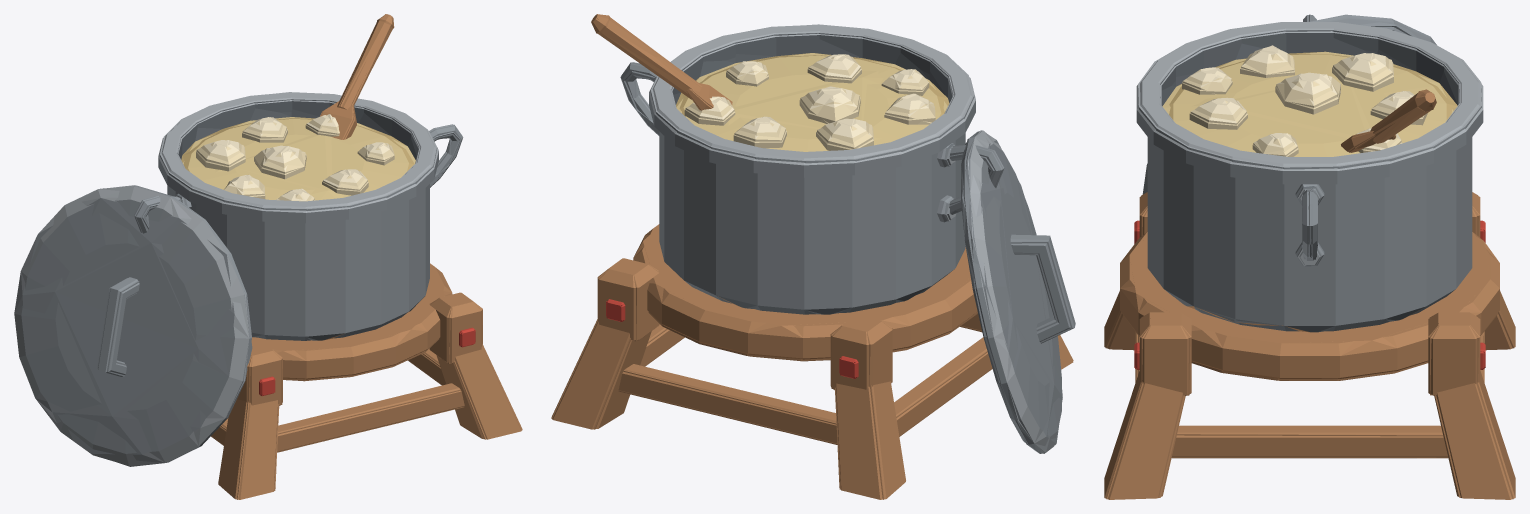
Rendered from FMS_Workshop_STA_01.fbx.
3 renders of one model, left to right at view 1: azimuth 30°, elevation 25°; view 2: azimuth 150°, elevation 25°; view 3: azimuth 270°, elevation 25°, orthographic. The views are drawn at different scales.
Visible parts, largest first — view 1: FMS_Workshop_STA_01_Body, FMS_Workshop_STA_01_Lid, FMS_Workshop_STA_01_Body_Low1, FMS_Workshop_STA_01_Lid_Low1, FMS_Workshop_STA_01_Paddle, FMS_Workshop_STA_01_Paddle_Low1; view 2: FMS_Workshop_STA_01_Body, FMS_Workshop_STA_01_Body_Low1, FMS_Workshop_STA_01_Lid, FMS_Workshop_STA_01_Lid_Low1, FMS_Workshop_STA_01_Paddle_Low1, FMS_Workshop_STA_01_Paddle; view 3: FMS_Workshop_STA_01_Body, FMS_Workshop_STA_01_Body_Low1, FMS_Workshop_STA_01_Paddle_Low1, FMS_Workshop_STA_01_Paddle, FMS_Workshop_STA_01_Lid, FMS_Workshop_STA_01_Lid_Low1.
Part boxes in pixels (x1,y1,x2,y2): FMS_Workshop_STA_01_Body: [134, 92, 522, 499]; FMS_Workshop_STA_01_Lid: [14, 186, 251, 465]; FMS_Workshop_STA_01_Body_Low1: [134, 92, 522, 499]; FMS_Workshop_STA_01_Lid_Low1: [14, 185, 252, 466]; FMS_Workshop_STA_01_Paddle: [313, 14, 394, 139]; FMS_Workshop_STA_01_Paddle_Low1: [320, 14, 392, 139]; FMS_Workshop_STA_01_Body: [551, 24, 1073, 499]; FMS_Workshop_STA_01_Body_Low1: [551, 24, 1073, 499]; FMS_Workshop_STA_01_Lid: [961, 130, 1075, 453]; FMS_Workshop_STA_01_Lid_Low1: [961, 130, 1072, 453]; FMS_Workshop_STA_01_Paddle_Low1: [591, 14, 713, 110]; FMS_Workshop_STA_01_Paddle: [591, 14, 732, 110]; FMS_Workshop_STA_01_Body: [1104, 15, 1515, 499]; FMS_Workshop_STA_01_Body_Low1: [1106, 14, 1514, 499]; FMS_Workshop_STA_01_Paddle_Low1: [1341, 92, 1435, 152]; FMS_Workshop_STA_01_Paddle: [1341, 89, 1436, 152]; FMS_Workshop_STA_01_Lid: [1142, 14, 1434, 194]; FMS_Workshop_STA_01_Lid_Low1: [1143, 15, 1436, 194].
Size of the model in its own units: 1.42 by 1.11 by 1.03.
